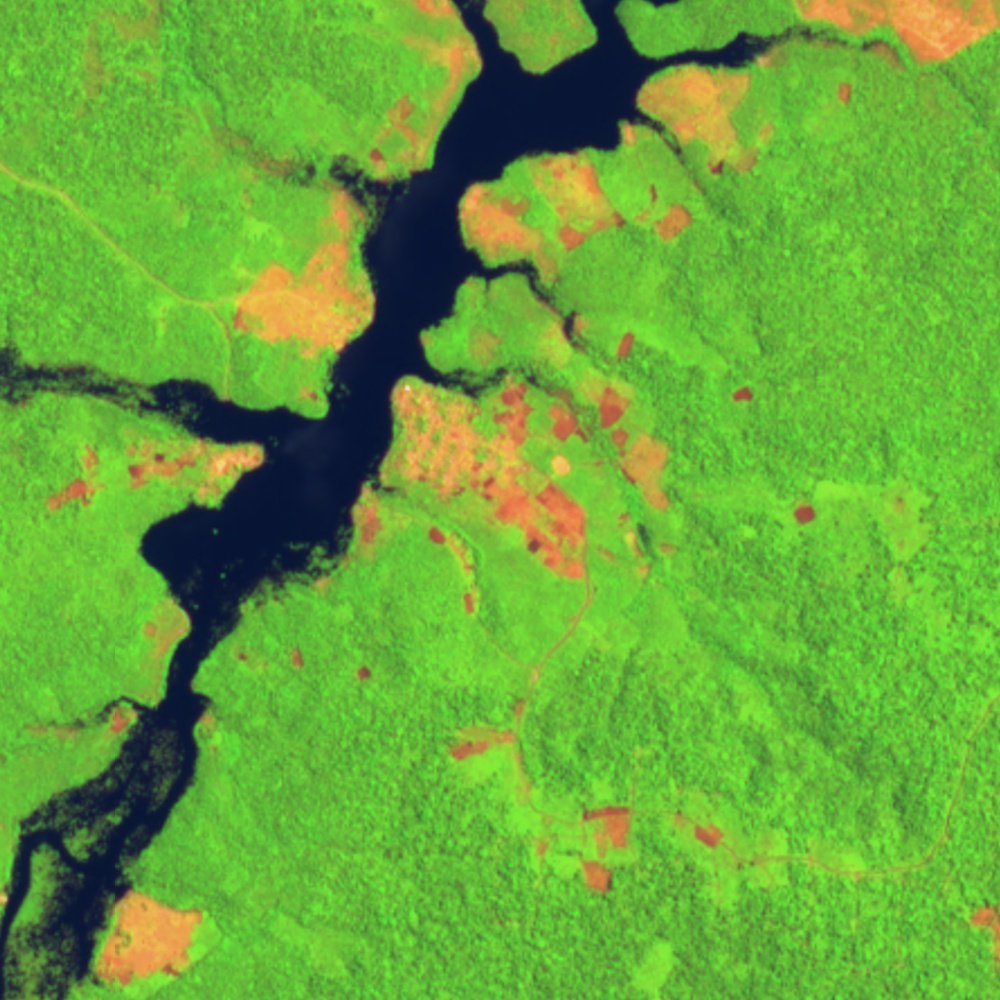legal: (384, 373, 586, 583), (223, 179, 378, 357), (22, 589, 196, 744), (366, 1, 481, 178), (580, 377, 677, 586), (35, 432, 273, 515), (527, 802, 726, 898), (637, 62, 776, 186), (791, 1, 1000, 70), (89, 884, 204, 989), (458, 179, 563, 287), (528, 145, 625, 253), (447, 696, 537, 801), (312, 479, 395, 592), (421, 521, 484, 614), (230, 643, 369, 679), (633, 180, 696, 240), (969, 900, 1000, 966), (608, 330, 639, 364), (792, 496, 822, 530), (729, 383, 758, 404), (298, 380, 328, 400), (835, 81, 855, 103)
